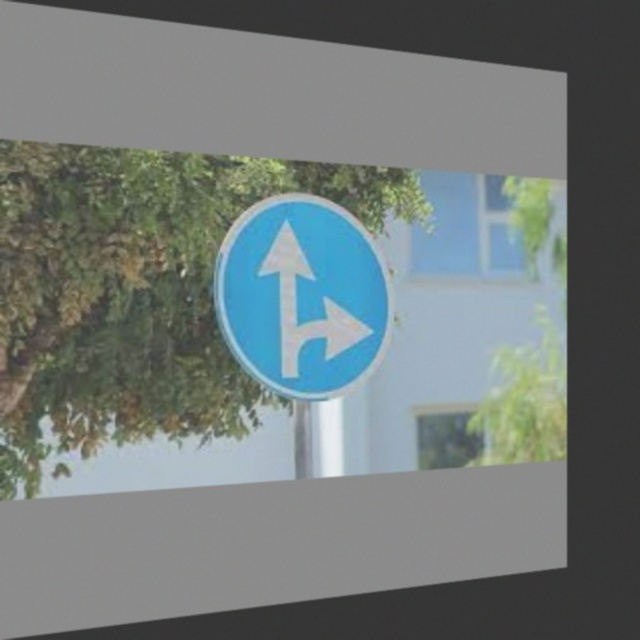Compulsory_Ahead_or_Turn_Right: (216, 188, 394, 409)
